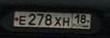license-plateSW: (13, 10, 91, 30)
